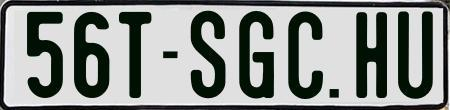5: (26, 10, 62, 101)
6: (72, 9, 111, 96)
C: (285, 11, 324, 103)
G: (238, 10, 279, 104)
H: (355, 11, 391, 103)
S: (191, 8, 230, 96)
T: (118, 10, 156, 101)
U: (397, 8, 436, 102)
